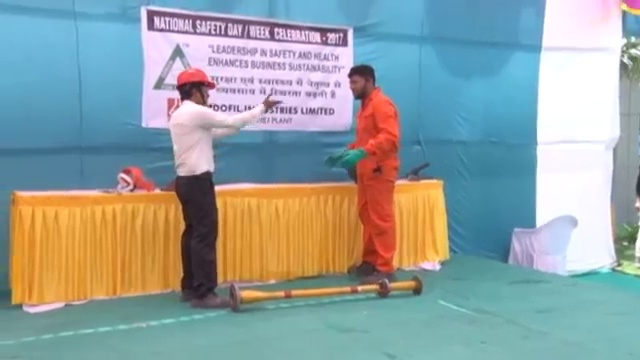helmet: (177, 67, 216, 89)
helmet_off: (346, 64, 375, 99)
helmet_on: (173, 65, 218, 104)
person: (164, 65, 286, 309), (335, 63, 402, 286)
